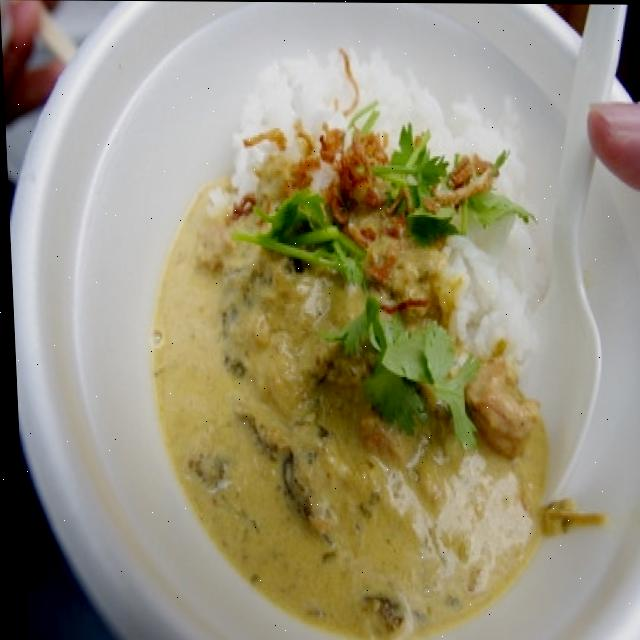鸡蛋料理: (88, 113, 622, 566)
